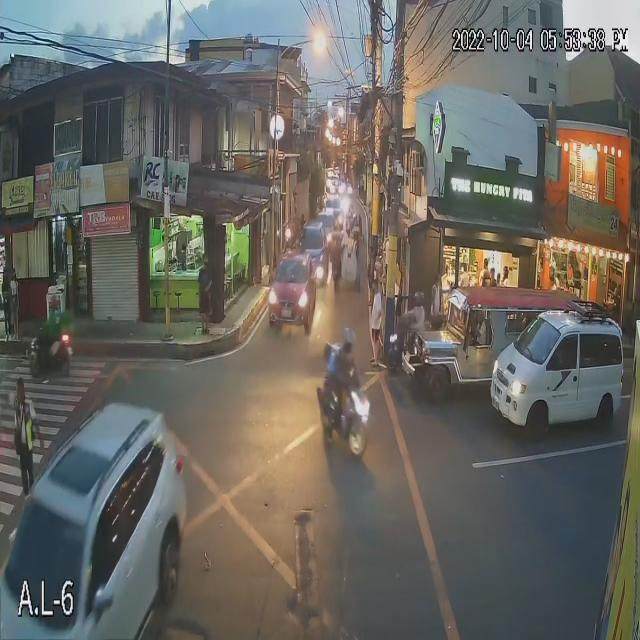helmet: (340, 327, 359, 353), (48, 293, 61, 310), (412, 292, 426, 307)
motorcycle: (312, 380, 373, 460), (26, 335, 74, 379), (387, 322, 403, 370)
rider: (329, 347, 358, 433), (42, 305, 69, 383), (404, 308, 424, 344)
